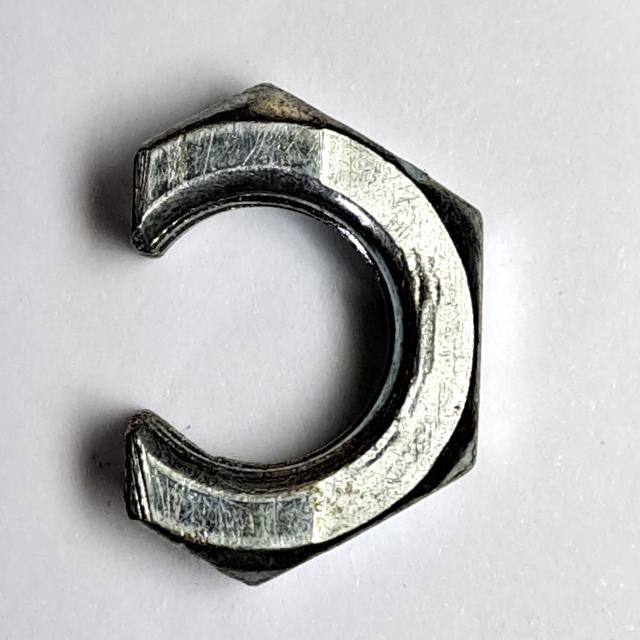Fracture: (115, 72, 500, 598)
